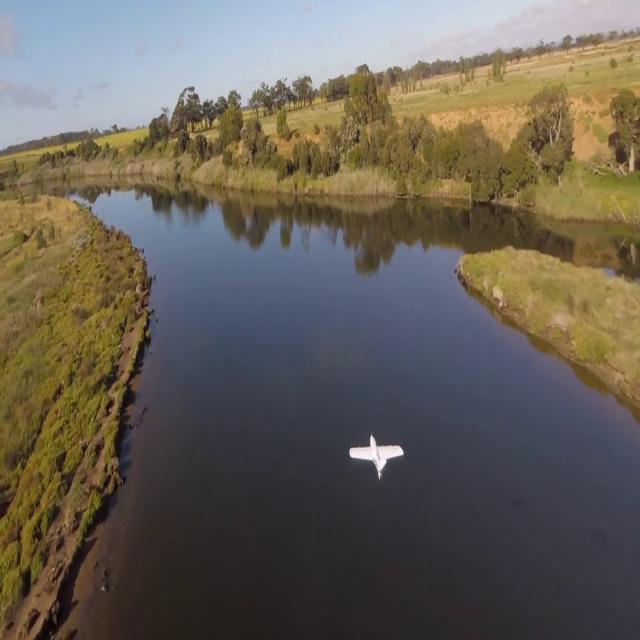iha: (348, 427, 406, 474)
